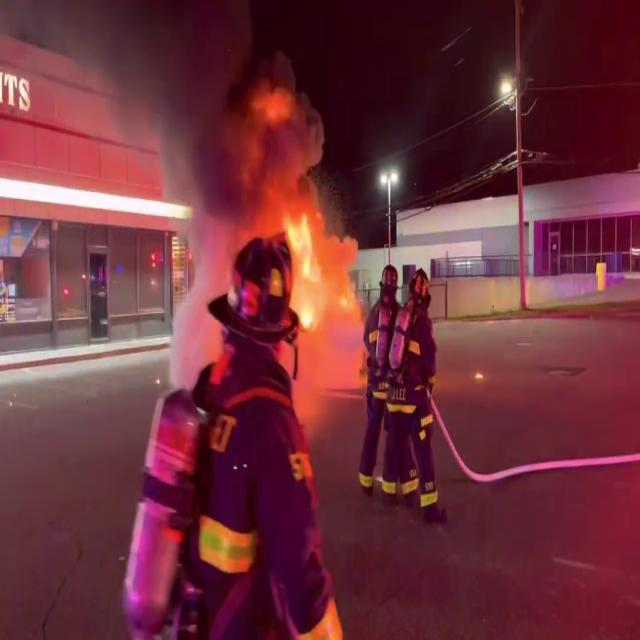Fire: (282, 206, 326, 334)
Smoke: (94, 0, 340, 280)
